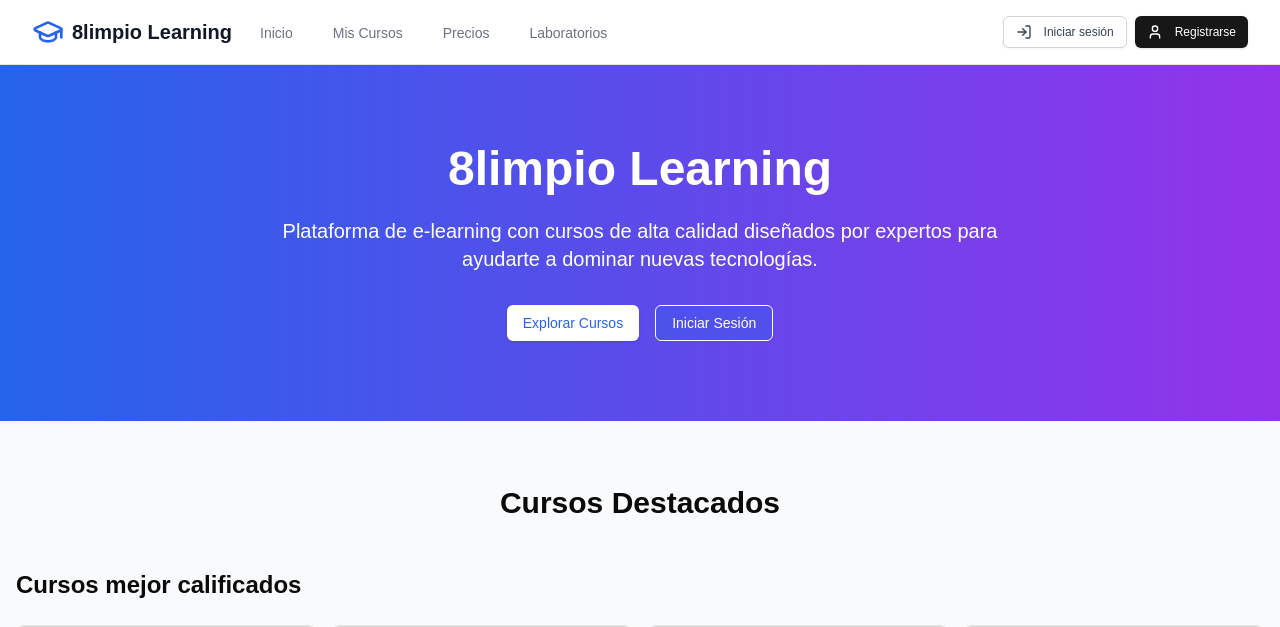
Test: Flujo de Autenticación › Debería navegar a la página de login
Click the link to "/login".
click(1065, 32)  # box [1003,16,1127,48]
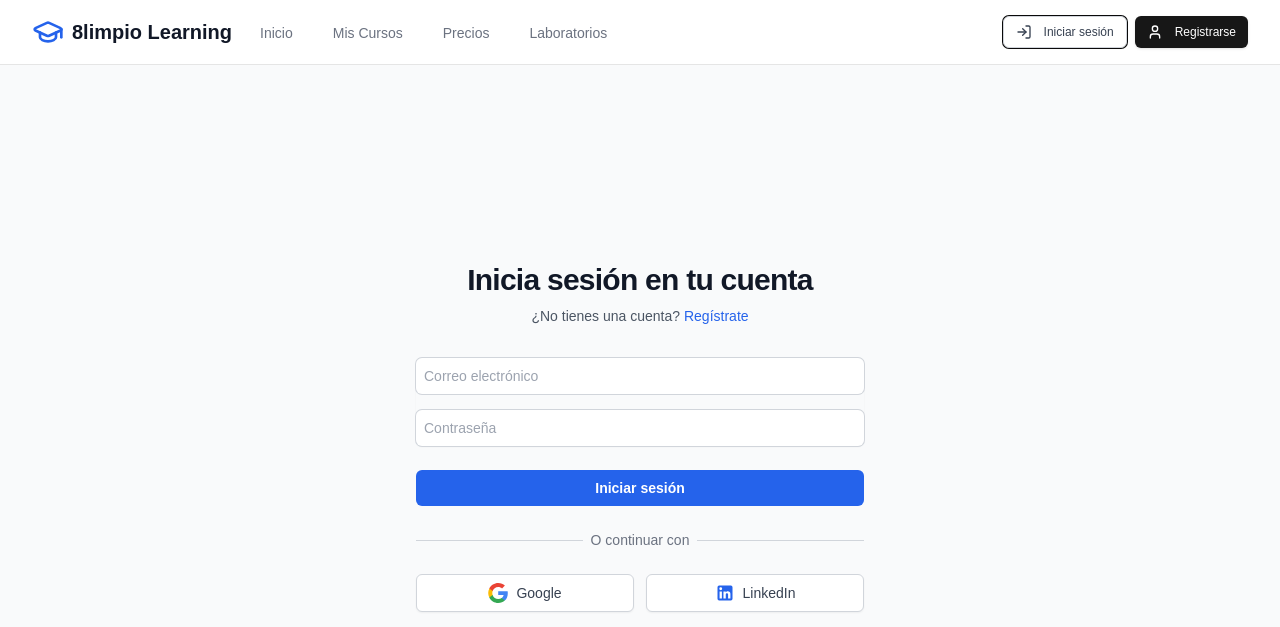
Expected: the form is shown, [416,358,864,612]
